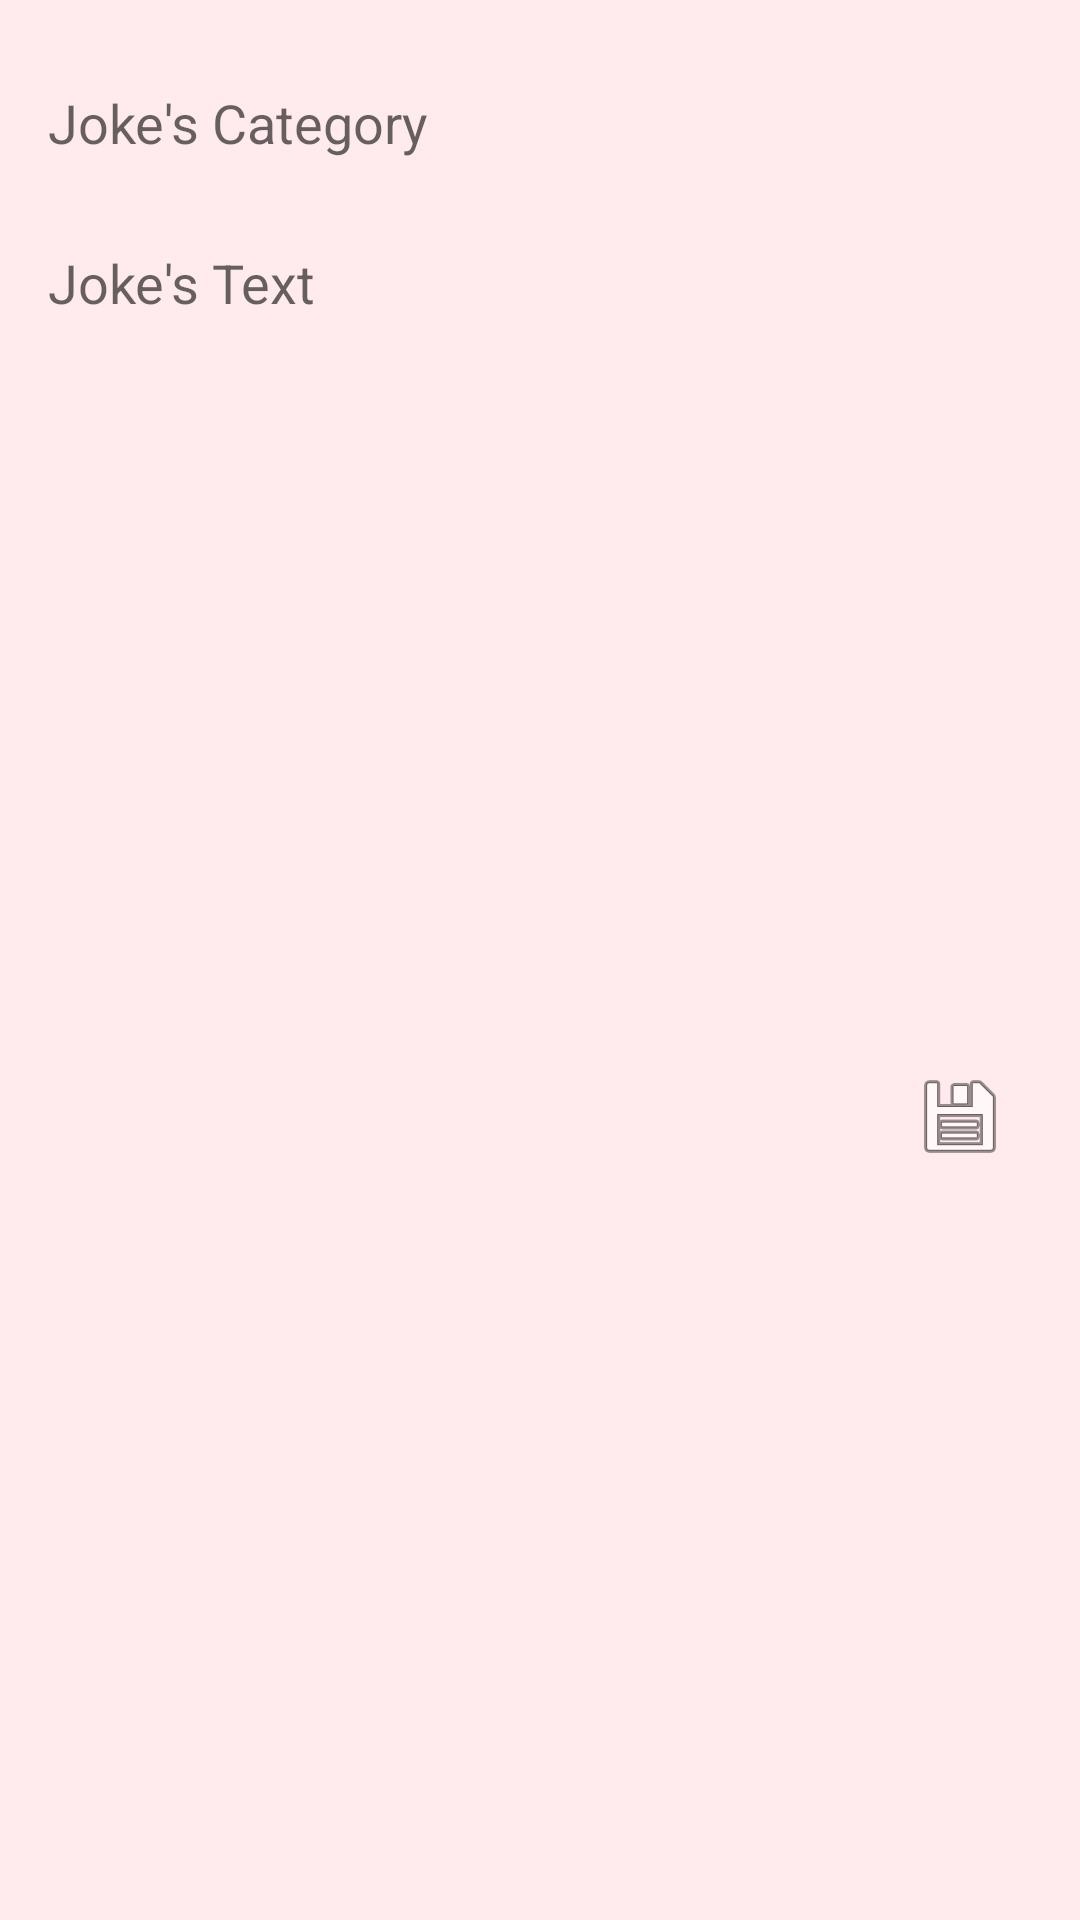

Named icons in this screenshot (1080px x 1920px) and their bounding boxes, (left=x1, top=y1, right=x2, bottom=y2):
save button: (left=924, top=1080, right=996, bottom=1153)
